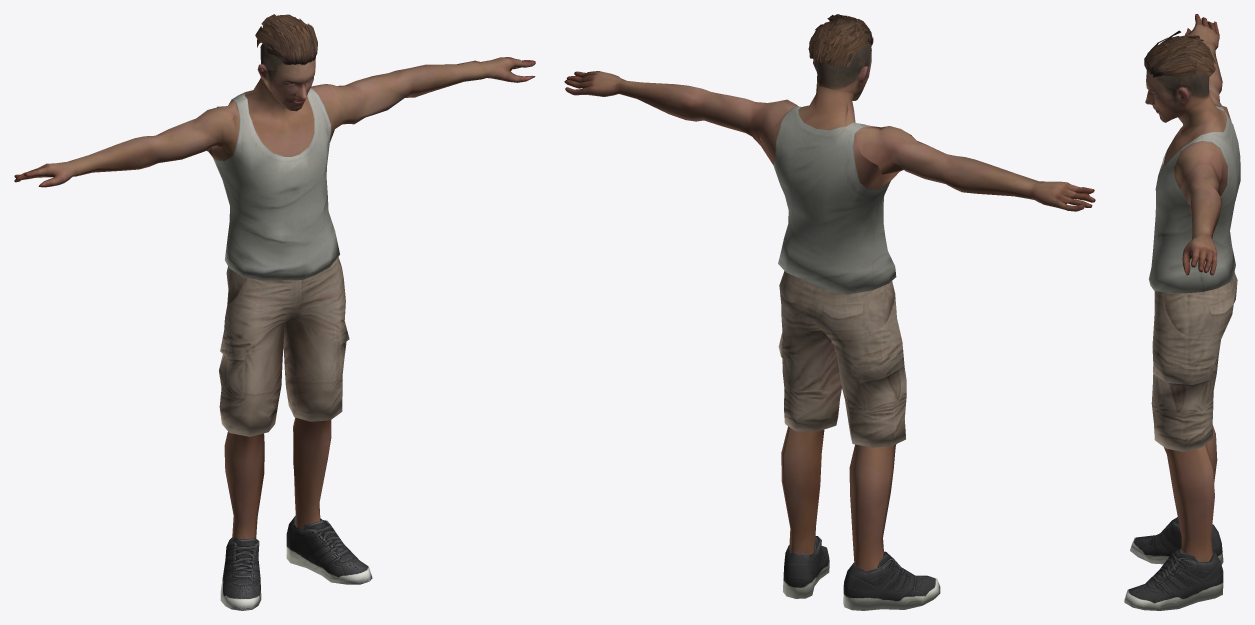
Rendered from Adam[Expressions].fbx.
3 renders of one model, left to right at view 1: azimuth 30°, elevation 25°; view 2: azimuth 150°, elevation 25°; view 3: azimuth 270°, elevation 25°, orthographic. The views are drawn at different scales.
Parts seen in each view (by area): view 1: adam_adammesh; view 2: adam_adammesh; view 3: adam_adammesh.
Boxes of the visible parts, box(x1,y1,x2,y2) form: adam_adammesh: box(14, 14, 535, 610); adam_adammesh: box(564, 14, 1095, 610); adam_adammesh: box(1124, 14, 1240, 610).
Bounding box in the file's own units: 684 × 708 × 137.
